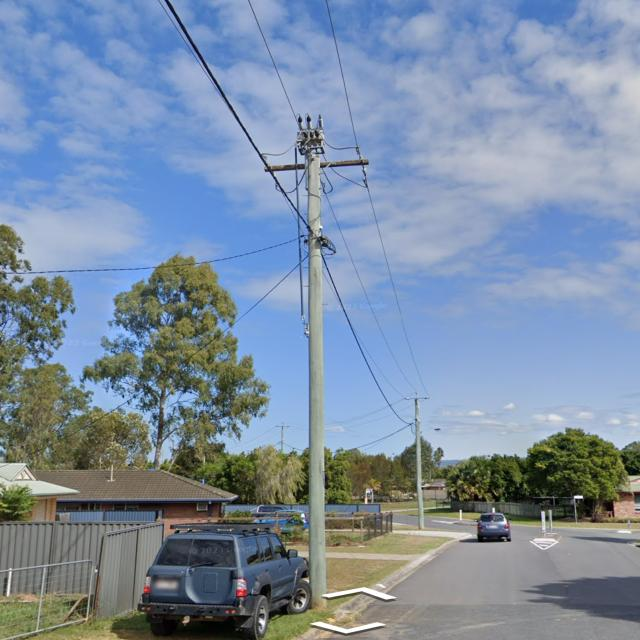HV-switch: (295, 113, 326, 156)
HV-transmission: (263, 146, 367, 179)
LV link box: (310, 231, 336, 251)
crossarm: (263, 158, 371, 174), (404, 392, 429, 400)
timber-pole: (307, 154, 328, 610), (414, 398, 424, 531)
